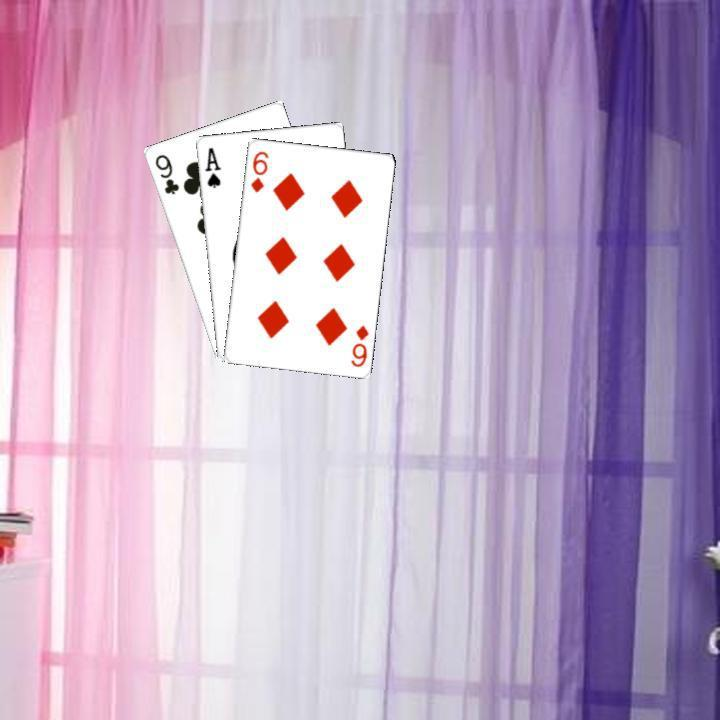6: (246, 146, 270, 194), (346, 321, 370, 368)
9: (150, 150, 181, 197)
A: (200, 143, 222, 190)
